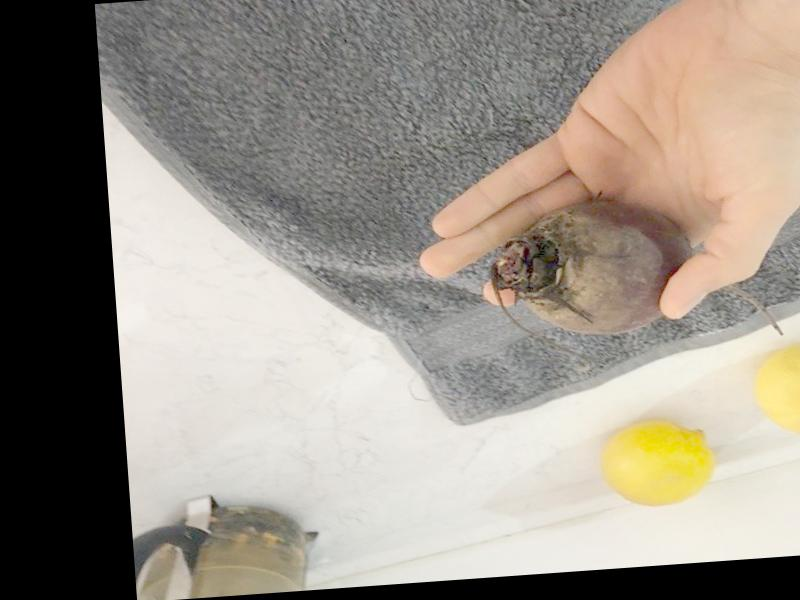Beet: (487, 187, 784, 355)
